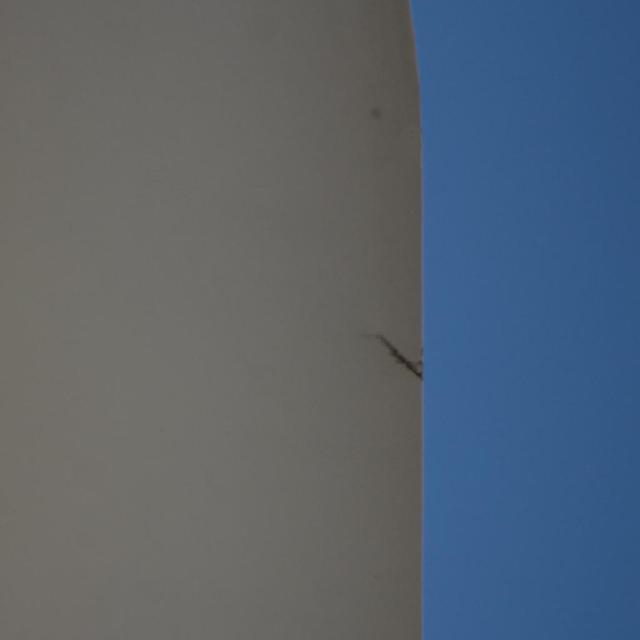crack: (373, 337, 419, 374)
